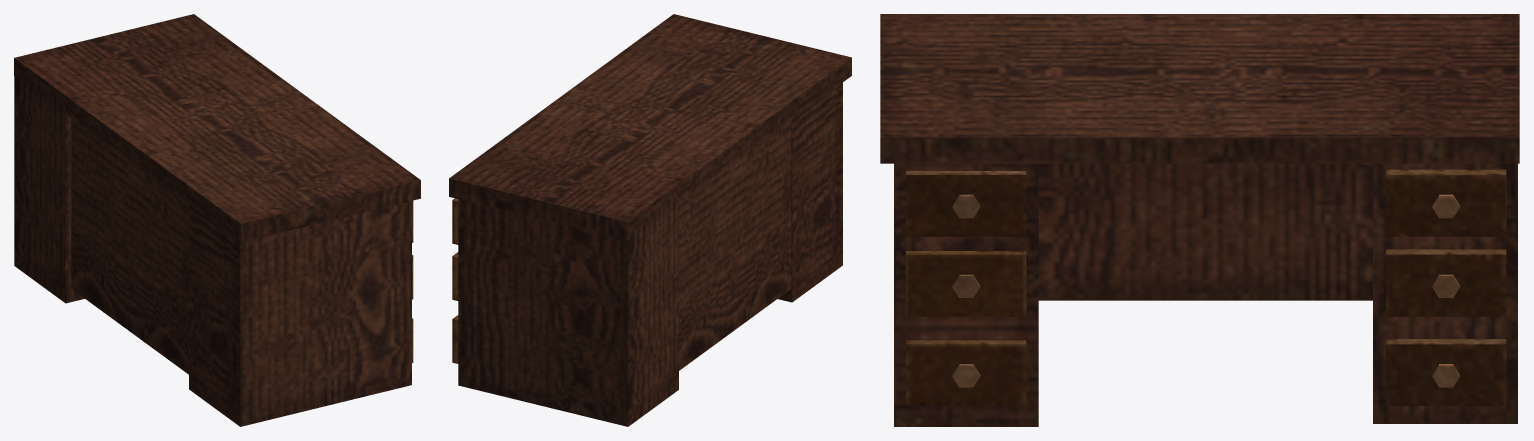
The model's file is desk.glb.
3 renders of one model, left to right at view 1: azimuth 30°, elevation 25°; view 2: azimuth 150°, elevation 25°; view 3: azimuth 270°, elevation 25°, orthographic. The views are drawn at different scales.
Visible parts, largest first — view 1: Desk_Variant_1; view 2: Desk_Variant_1; view 3: Desk_Variant_1.
Boxes of the visible parts, <box> form: Desk_Variant_1: <box>14,14,420,426</box>; Desk_Variant_1: <box>449,14,851,426</box>; Desk_Variant_1: <box>880,14,1519,426</box>.
Size of the model in its own units: 1.09 by 1.18 by 2.34.
Materials: 1 (1 with a texture image).
